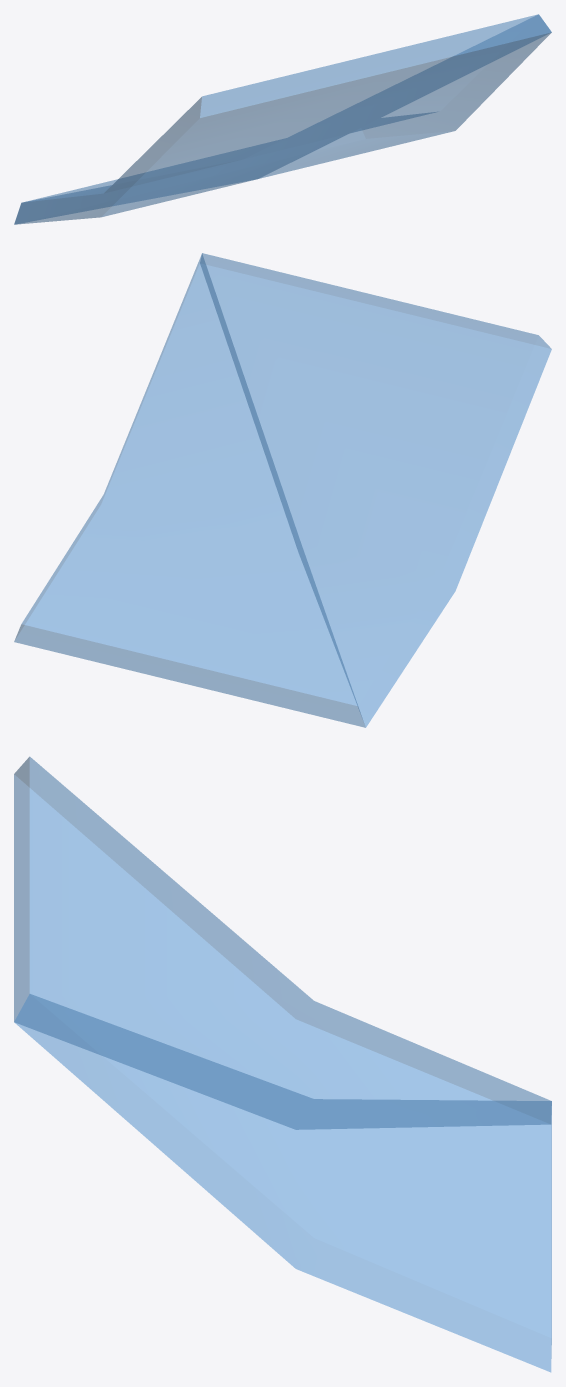
Rendered from Glass_Broken_03.fbx.
3 renders of one model, top to bottom at view 1: azimuth 30°, elevation 25°; view 2: azimuth 150°, elevation 25°; view 3: azimuth 270°, elevation 25°, orthographic. The views are drawn at different scales.
Parts seen in each view (by area): view 1: Cube.006, Cube.007; view 2: Cube.006, Cube.007; view 3: Cube.007, Cube.006.
Part boxes in pixels (x1,y1,x2,y2): Cube.006: (14, 14, 551, 224); Cube.007: (15, 15, 551, 223); Cube.006: (200, 253, 551, 726); Cube.007: (14, 253, 365, 727); Cube.007: (14, 994, 551, 1372); Cube.006: (14, 756, 551, 1129).
Size of the model in its own units: 2.93 by 2.05 by 2.67.
